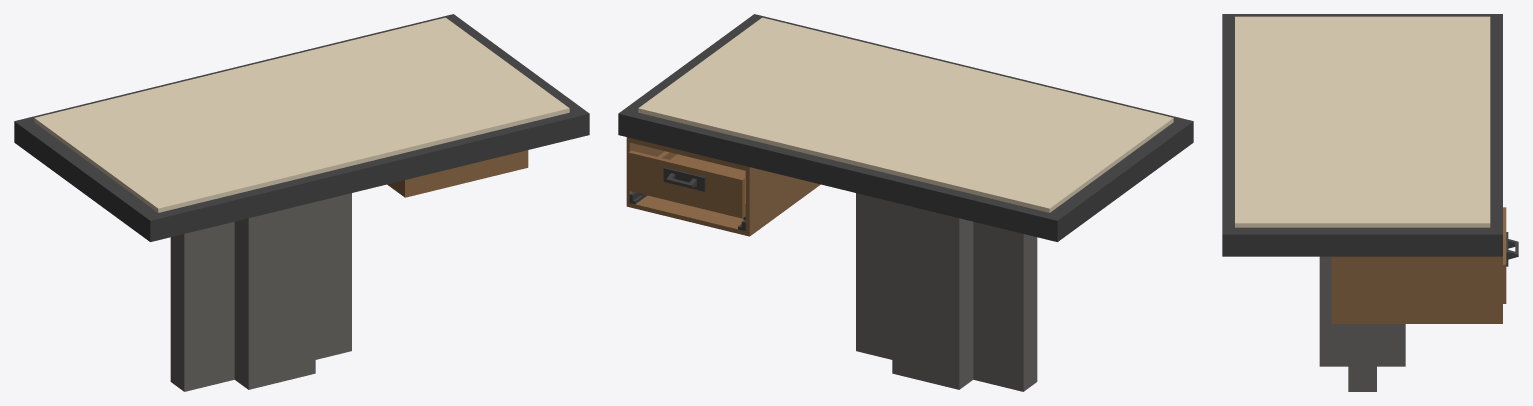
Rendered from F11_DeskClosed.fbx.
3 renders of one model, left to right at view 1: azimuth 30°, elevation 25°; view 2: azimuth 150°, elevation 25°; view 3: azimuth 270°, elevation 25°, orthographic. The views are drawn at different scales.
Parts seen in each view (by area): view 1: DeskClosed; view 2: DeskClosed; view 3: DeskClosed.
Part boxes in pixels (x1,y1,x2,y2): DeskClosed: (14,14,589,391); DeskClosed: (618,14,1193,391); DeskClosed: (1222,14,1518,391).
Bounding box in the file's own units: 4.66 × 2.47 × 2.64.
